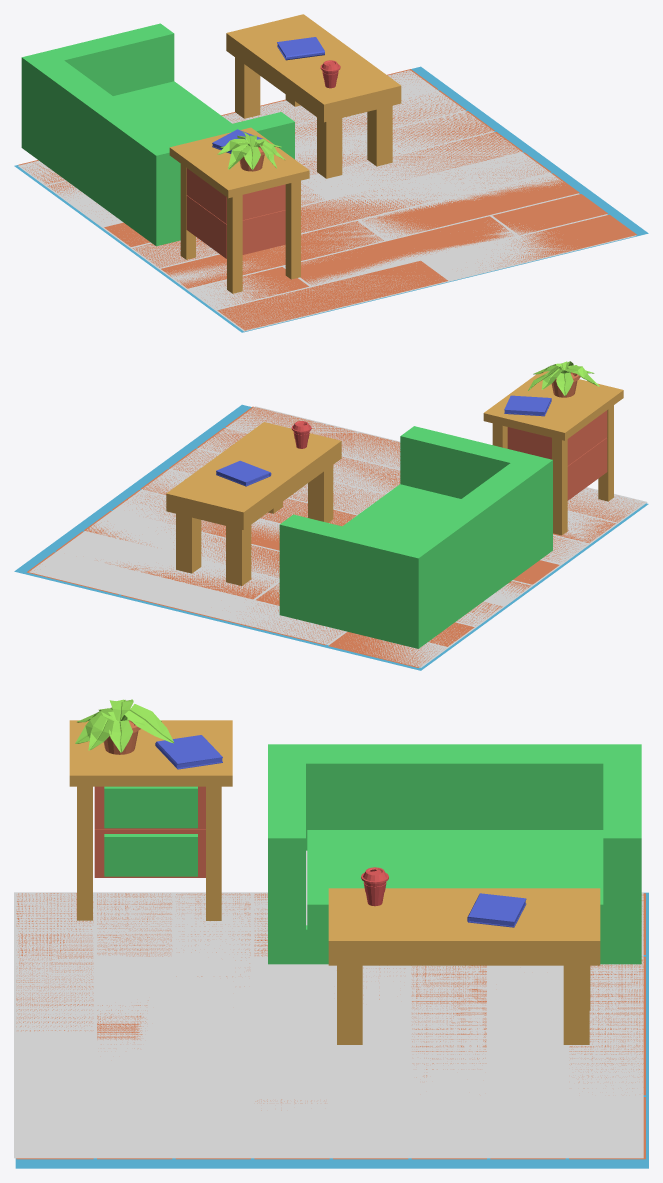
Rendered from room6.glb.
3 views of the same model, one above another, from view 1: azimuth 30°, elevation 25°; view 2: azimuth 150°, elevation 25°; view 3: azimuth 270°, elevation 25° (orthographic). The views are drawn at different scales.
Parts seen in each view (by area): view 1: Cube.004, Cube.003, 平面.027, 平面.030, 平面, 平面.033, 平面.001, 平面.002, 平面.028, 平面.038, 平面.035, 平面.051; view 2: 平面.027, Cube.003, Cube.004, 平面.030, 平面.033, 平面.002, 平面, 平面.028, 平面.001, 平面.035, 平面.038, 平面.051 (+1 smaller); view 3: Cube.003, 平面.027, 平面.030, 平面.028, Cube.004, 平面.033, 平面.002, 平面.001, 平面, 平面.036, 平面.039, 平面.038 (+5 smaller).
Part boxes in pixels (<box>): Cube.004: <box>18,69,636,330</box>; Cube.003: <box>18,70,636,331</box>; 平面.027: <box>21,23,294,246</box>; 平面.030: <box>226,14,401,122</box>; 平面: <box>235,57,392,178</box>; 平面.033: <box>169,127,309,198</box>; 平面.001: <box>180,164,300,293</box>; 平面.002: <box>14,66,648,332</box>; 平面.028: <box>113,81,231,138</box>; 平面.038: <box>186,195,285,258</box>; 平面.035: <box>186,168,285,224</box>; 平面.051: <box>277,37,324,60</box>; 平面.027: <box>279,426,552,648</box>; Cube.003: <box>29,406,647,667</box>; Cube.004: <box>26,406,642,667</box>; 平面.030: <box>166,422,341,529</box>; 平面.033: <box>483,371,623,440</box>; 平面.002: <box>14,404,648,670</box>; 平面: <box>176,465,333,585</box>; 平面.028: <box>342,484,460,541</box>; 平面.001: <box>492,405,613,535</box>; 平面.035: <box>507,410,607,465</box>; 平面.038: <box>567,438,607,500</box>; 平面.051: <box>216,460,271,486</box>; Cube.003: <box>14,892,643,1158</box>; 平面.027: <box>268,744,641,964</box>; 平面.030: <box>328,888,600,965</box>; 平面.028: <box>307,830,603,929</box>; Cube.004: <box>16,893,645,1159</box>; 平面.033: <box>69,720,232,786</box>; 平面.002: <box>15,892,648,1168</box>; 平面.001: <box>77,786,221,920</box>; 平面: <box>337,965,590,1044</box>; 平面.036: <box>104,786,197,828</box>; 平面.039: <box>104,834,197,876</box>; 平面.038: <box>94,829,205,877</box>.
Size of the model in its own units: 2.07 by 0.7695 by 2.02.
